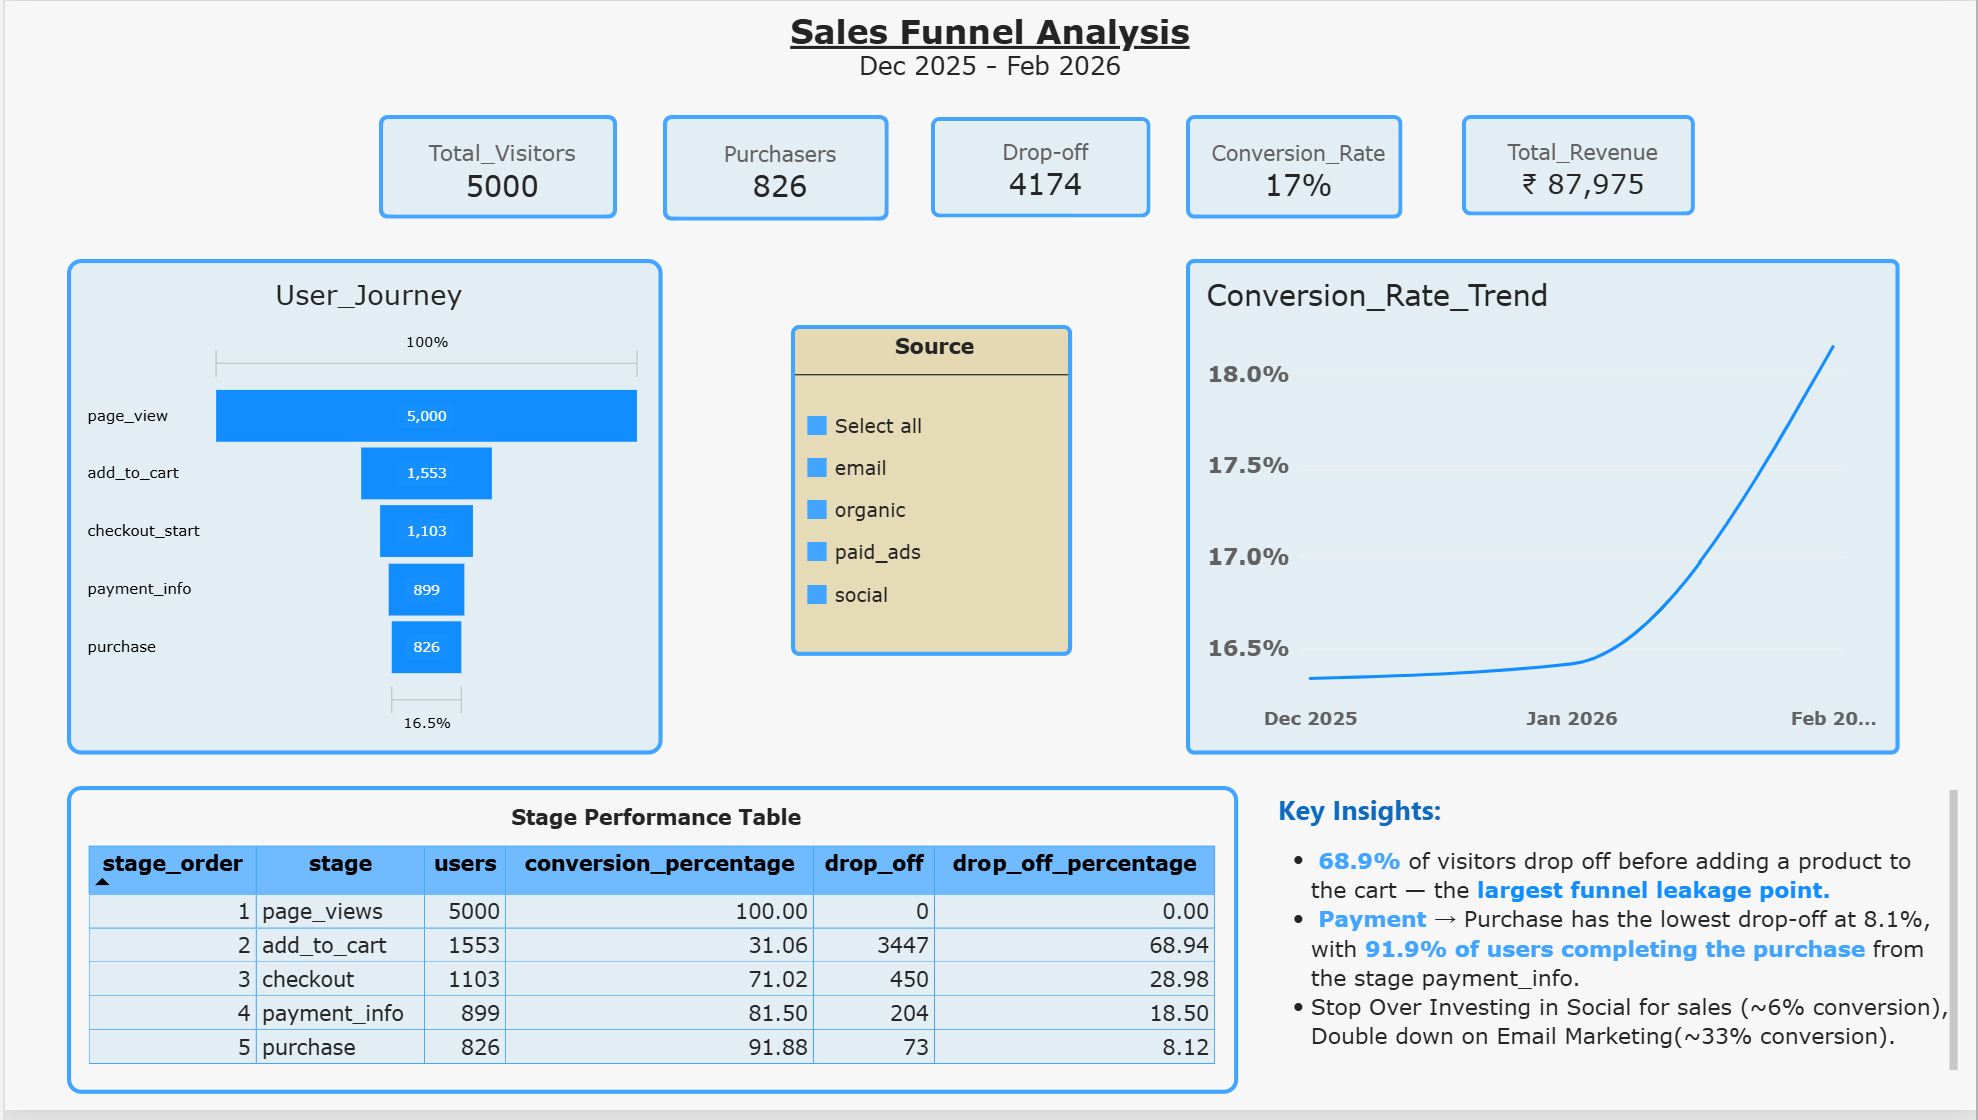

What the dashboard file says about the page in this screenshot:
{"tool":"powerbi","page":{"name":"Sales_Oveview","canvas":[1920,1080],"ordinal":0},"visuals":[{"type":"funnel","title":"User_Journey","fields":{"Category":["user_events.event_type"],"Y":["Count(user_events.user_id)"]},"box":[60.4,251.5,580.5,481.8],"z":0},{"type":"textbox","box":[751,10.3,418,99.9],"z":1000},{"type":"cardVisual","fields":{"Data":["Count(user_events.user_id)"]},"box":[364.3,110.5,232.7,101.1],"z":2000},{"type":"cardVisual","fields":{"Data":["user_events.Purchasers"]},"box":[641.6,110.5,220.9,103.4],"z":3000},{"type":"cardVisual","fields":{"Data":["user_events.Total_Conversion_rate"]},"box":[1150.1,111.1,211.5,101.1],"z":4000},{"type":"cardVisual","fields":{"Data":["Sum(user_events.amount)"]},"box":[1419.4,110.5,228,98.7],"z":5000},{"type":"slicer","title":"Source","fields":{"Values":["user_events.traffic_source"]},"box":[766.1,315.8,272.9,321.6],"z":6000},{"type":"cardVisual","fields":{"Data":["Sum(user_events.Total_drop_off)"]},"box":[902.5,113.1,213.9,98.7],"z":7000},{"type":"lineChart","title":"Conversion_Rate_Trend","fields":{"Category":["user_events.event_date.Variation.Date Hierarchy.Year","user_events.event_date.Variation.Date Hierarchy.Month"],"Y":["user_events.Total_Conversion_rate"]},"box":[1150.1,251.5,695.6,481.8],"z":7001},{"type":"tableEx","title":"Stage Performance Table","fields":{"Values":["Final_conversion_analysis.stage_order","Final_conversion_analysis.stage","Final_conversion_analysis.users","Final_conversion_analysis.conversion_percentage","Final_conversion_analysis.drop_off","Final_conversion_analysis.drop_off_percentage"]},"box":[60.4,764.1,1140.3,300.2],"z":7002},{"type":"textbox","box":[1239.7,768,662.7,290.4],"z":7003}]}

Visuals, with their boxes in screenshot pixels (x1, y1, x2, y2), scaled from the page's 1920x1080 canvas onto the 1978x1120 screenshot:
"User_Journey" funnel: 62, 261, 660, 760
textbox: 774, 11, 1204, 114
cardVisual - Count(user_events.user_id): 375, 115, 615, 219
cardVisual - user_events.Purchasers: 661, 115, 889, 222
cardVisual - user_events.Total_Conversion_rate: 1185, 115, 1403, 220
cardVisual - Sum(user_events.amount): 1462, 115, 1697, 217
"Source" slicer: 789, 327, 1070, 661
cardVisual - Sum(user_events.Total_drop_off): 930, 117, 1150, 220
"Conversion_Rate_Trend" lineChart: 1185, 261, 1901, 760
"Stage Performance Table" tableEx: 62, 792, 1237, 1104
textbox: 1277, 796, 1960, 1098
